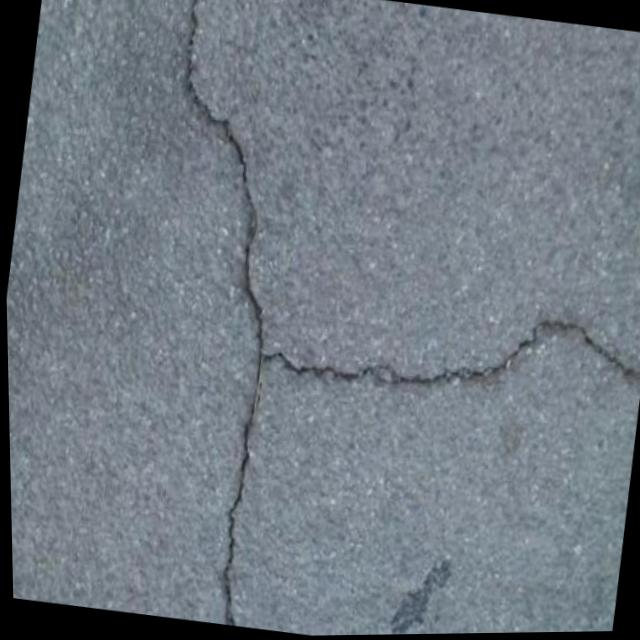Crack: (79, 0, 335, 630), (272, 273, 640, 452)
